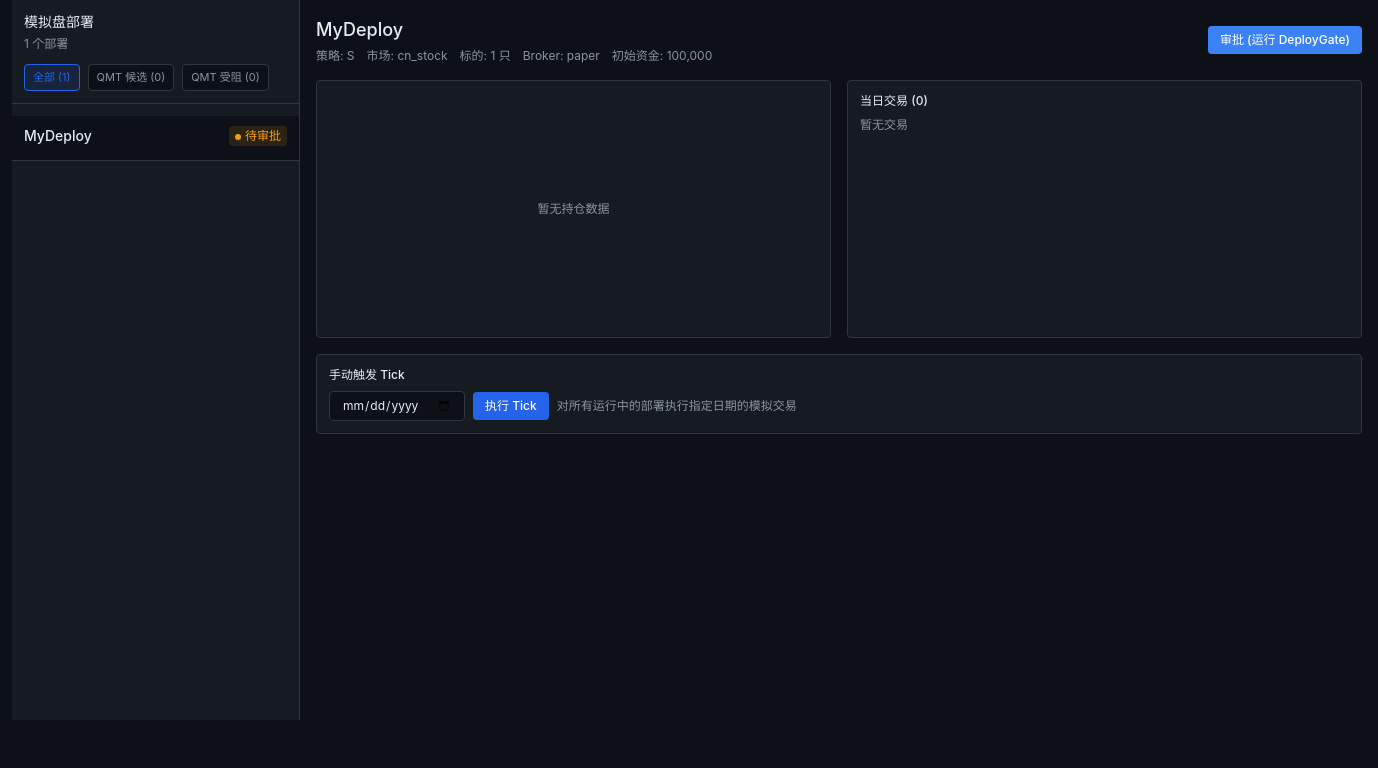
Test: PaperTradingPage - DeployGate 422 error object extraction (V2.17 regression) › 422 with detail={message,verdict} surfaces message string in toast (not React-renderable object)
The image size is (1378, 768).
Click approve → handleAction should fire, fail, and extract message
Click the button "审批 (运行 DeployGate)" at [1285, 40], box [1208, 26, 1362, 54]
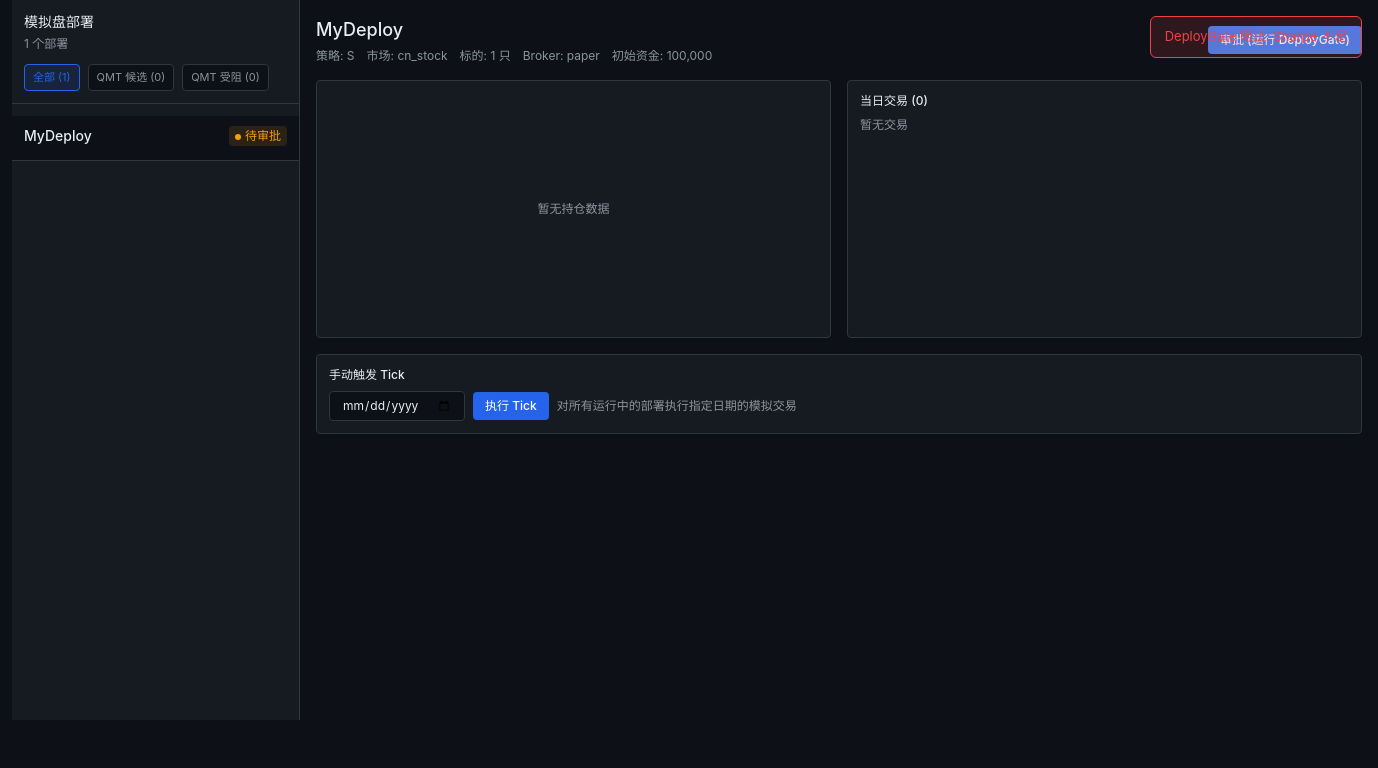
expect the text "DeployGate 阻止: Sharpe 不足" is shown: met, box [1150, 16, 1362, 58]
